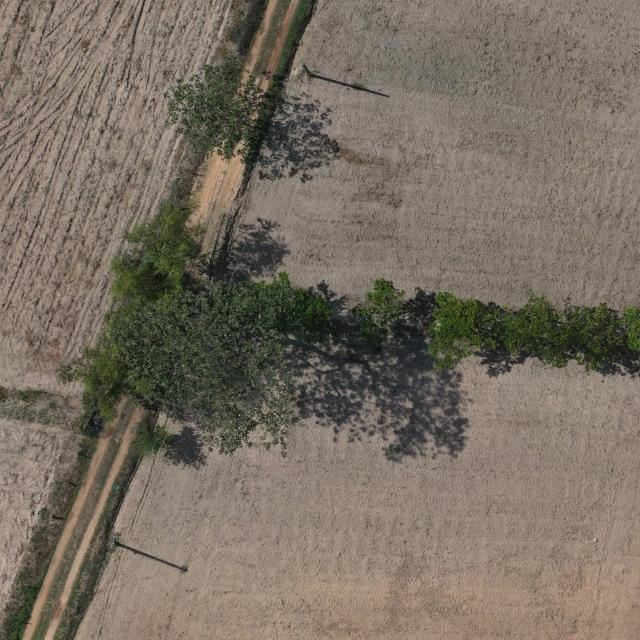Tree: (119, 279, 307, 464), (161, 42, 261, 163), (109, 195, 207, 293), (483, 292, 570, 369), (246, 270, 336, 342), (425, 288, 482, 369), (562, 301, 621, 373), (349, 279, 406, 348), (623, 303, 640, 355)
